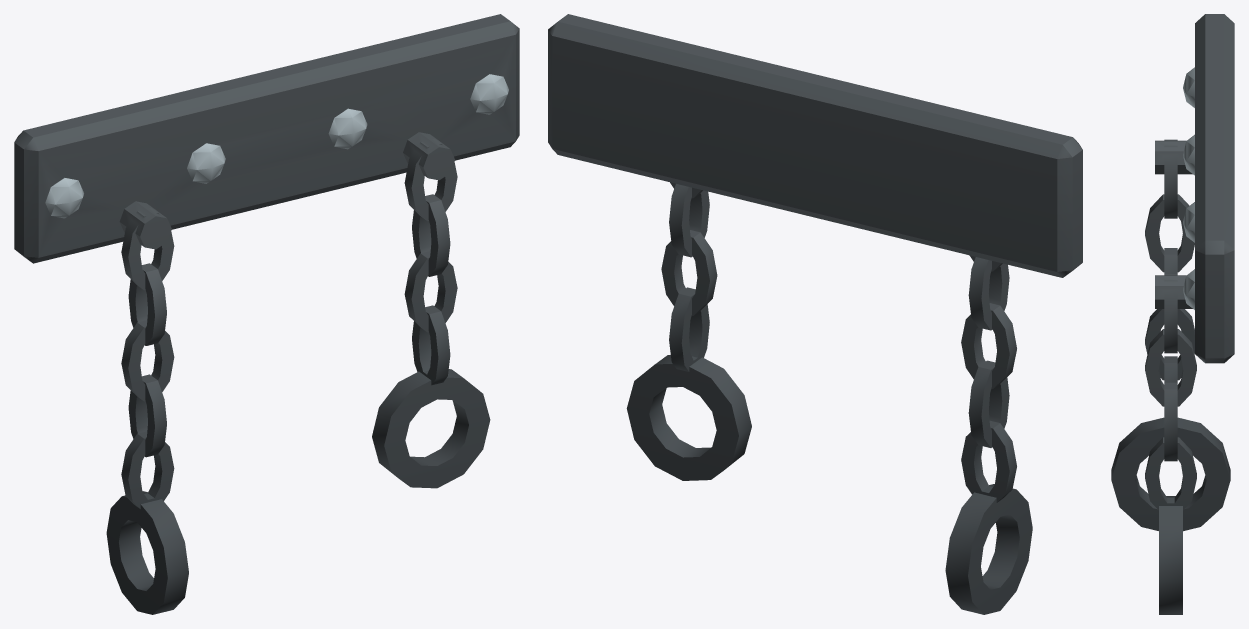
Rendered from shackles.glb.
The picture shows the model from 3 angles, left to right: view 1: azimuth 30°, elevation 25°; view 2: azimuth 150°, elevation 25°; view 3: azimuth 270°, elevation 25°; orthographic projection. The views are drawn at different scales.
Parts seen in each view (by area): view 1: shackles; view 2: shackles; view 3: shackles.
Boxes of the visible parts, left/top/right/bottom form: shackles: left=14, top=14, right=519, bottom=614; shackles: left=548, top=14, right=1082, bottom=614; shackles: left=1111, top=14, right=1234, bottom=614.
Size of the model in its own units: 1.4 by 1.3 by 0.31.
Materials: 1 (1 with a texture image).
